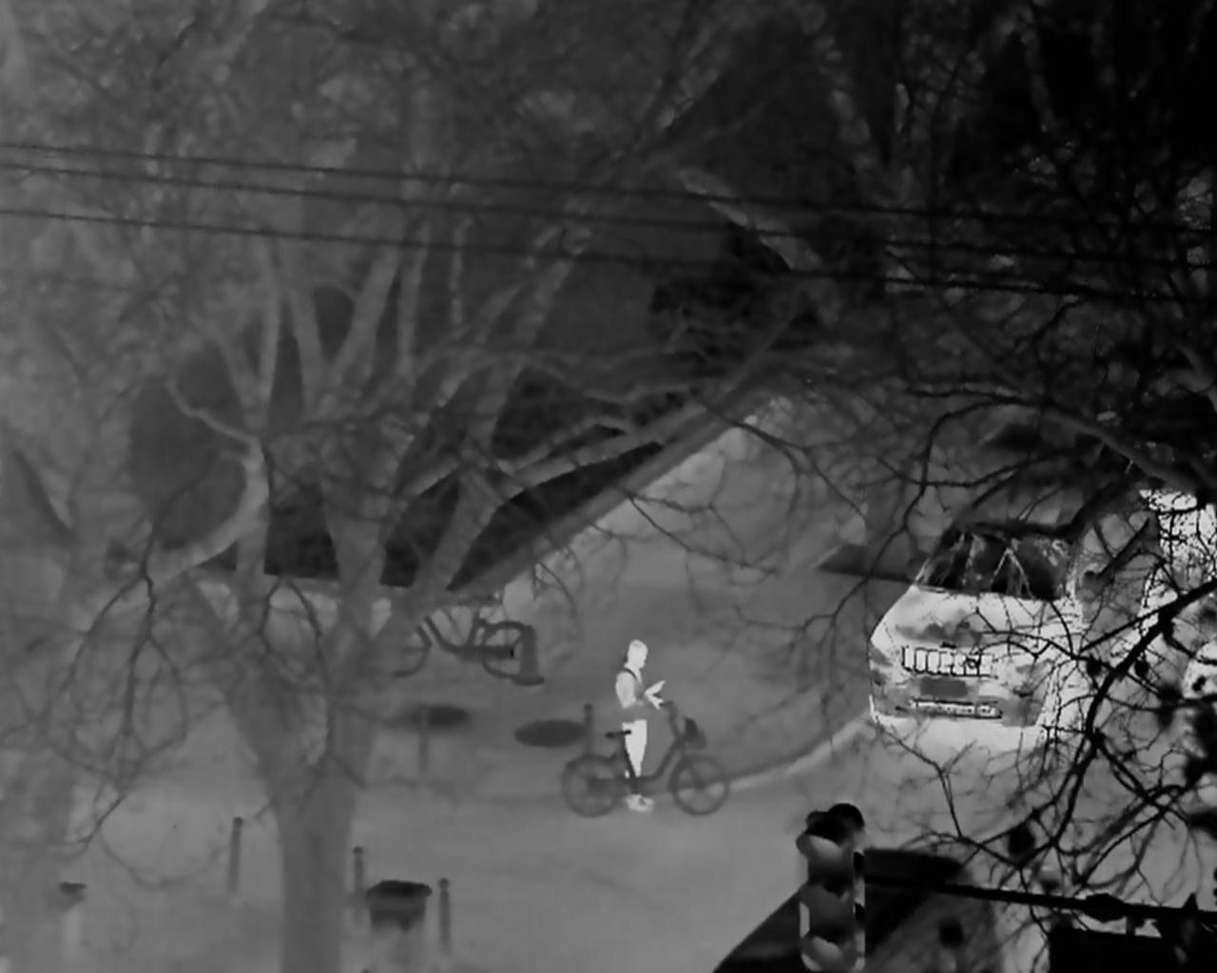person: (614, 639, 667, 813)
